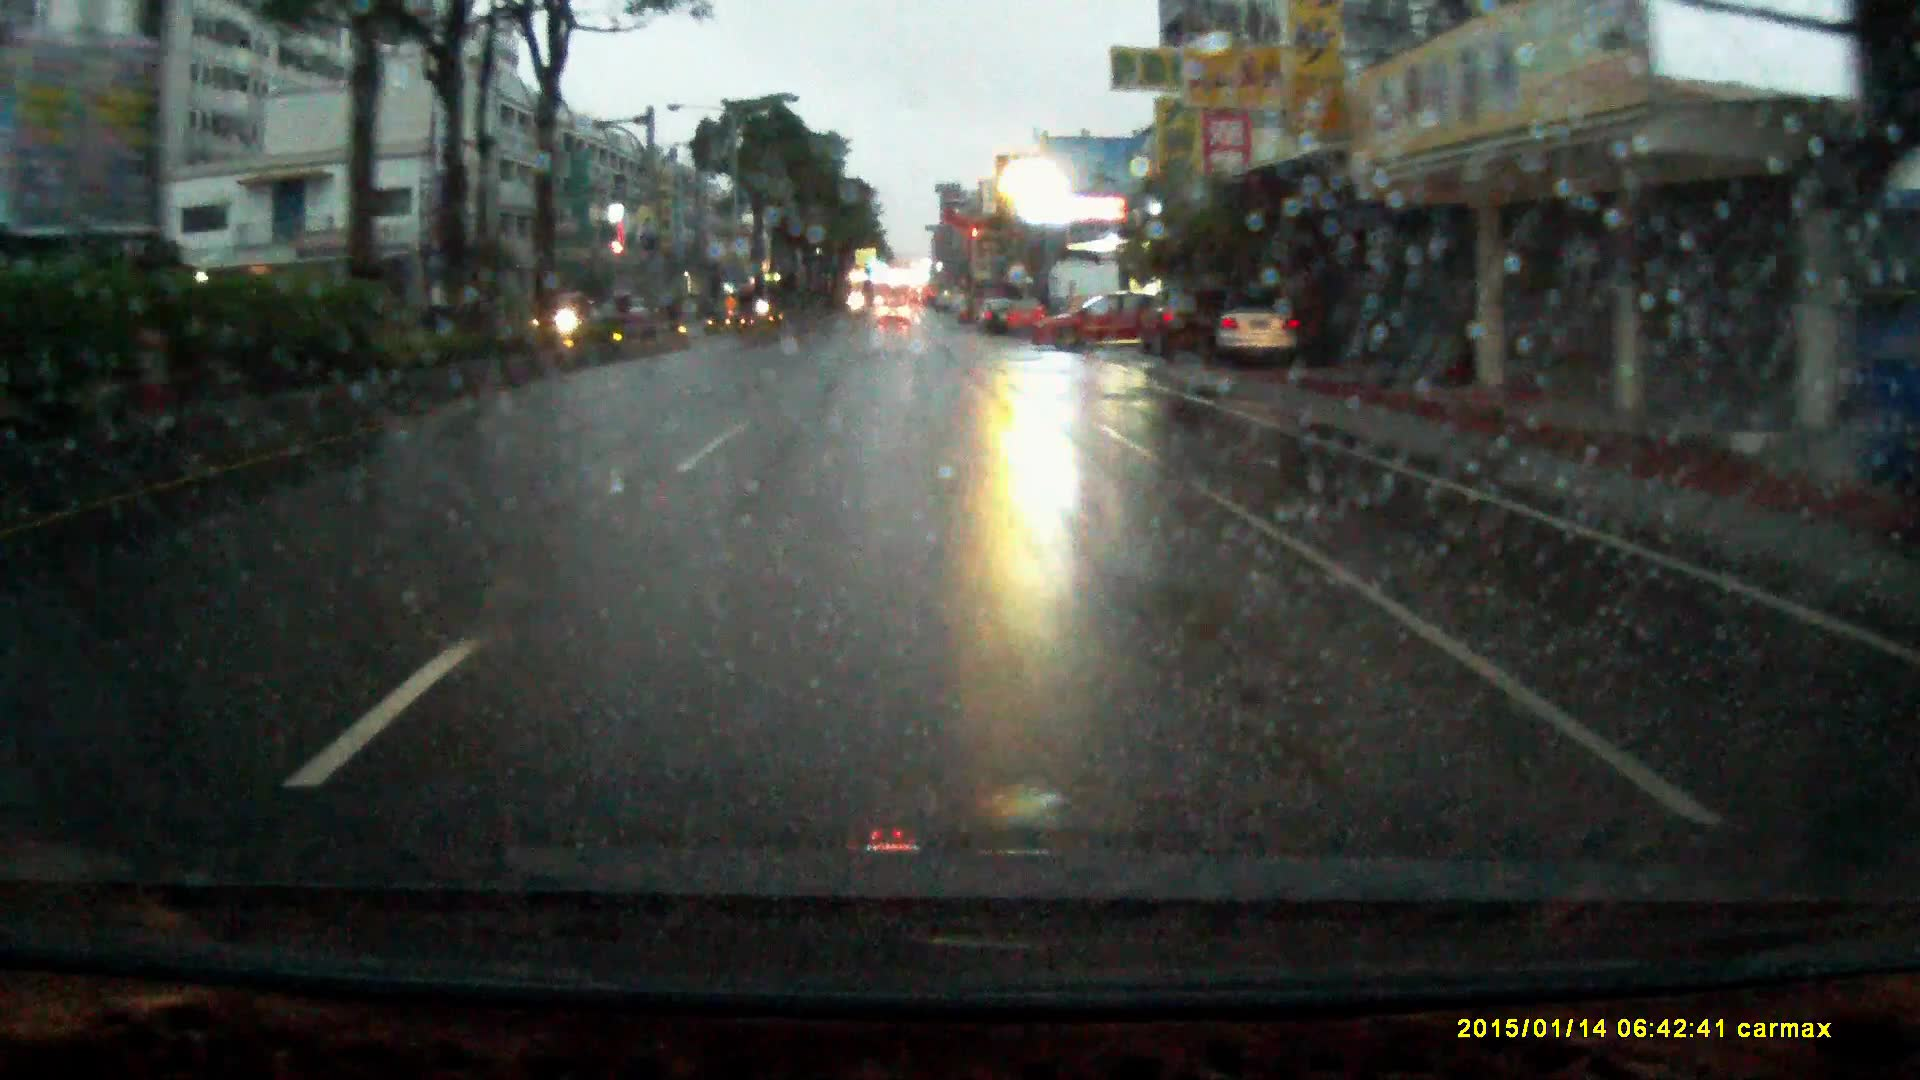vehicle: (1029, 294, 1178, 355), (1211, 293, 1305, 372), (1139, 289, 1222, 360), (524, 295, 595, 338), (1006, 298, 1048, 338), (977, 299, 1019, 338), (878, 301, 913, 328)
